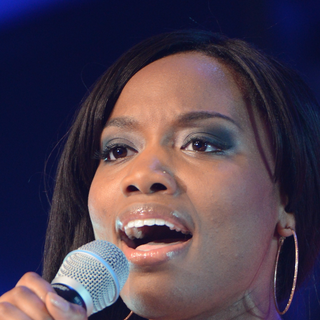eye: (175, 129, 231, 162), (97, 139, 144, 166)
